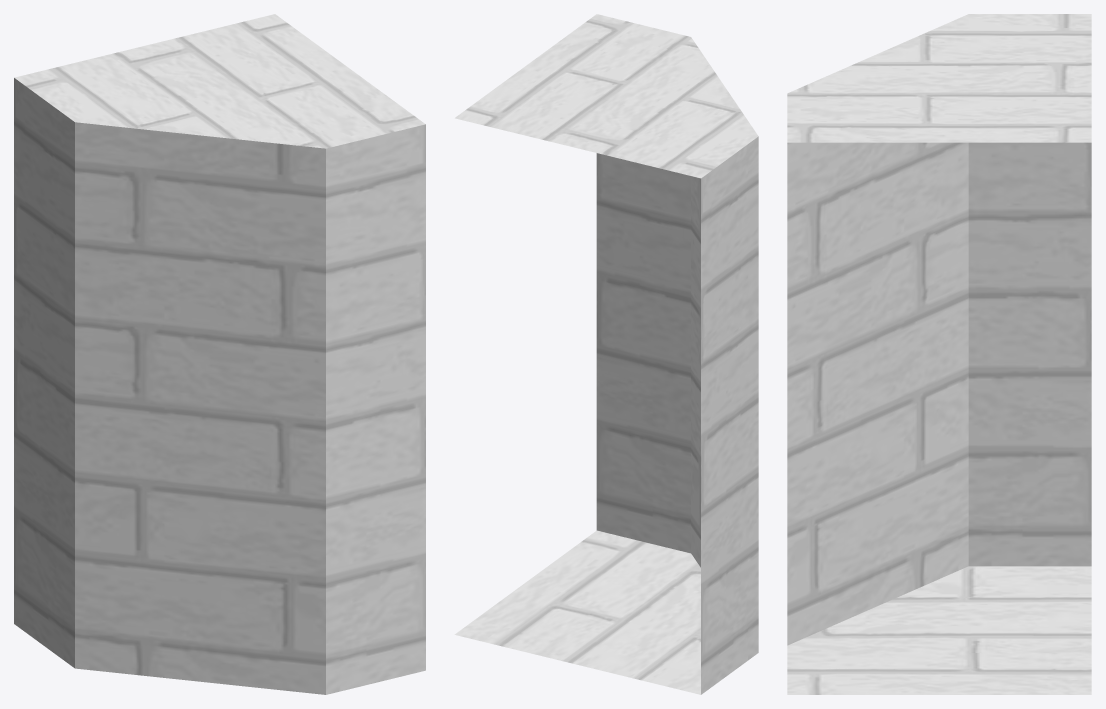
The model's file is castle_type_o.gltf.
3 renders of one model, left to right at view 1: azimuth 30°, elevation 25°; view 2: azimuth 150°, elevation 25°; view 3: azimuth 270°, elevation 25°, orthographic. The views are drawn at different scales.
Parts seen in each view (by area): view 1: Type_O; view 2: Type_O; view 3: Type_O.
Part boxes in pixels (bbox=[...]): Type_O: bbox=[14, 14, 425, 694]; Type_O: bbox=[454, 14, 758, 694]; Type_O: bbox=[787, 14, 1091, 694].
Bounding box in the file's own units: 0.5 × 1 × 0.5.
Materials: 1 (1 with a texture image).
